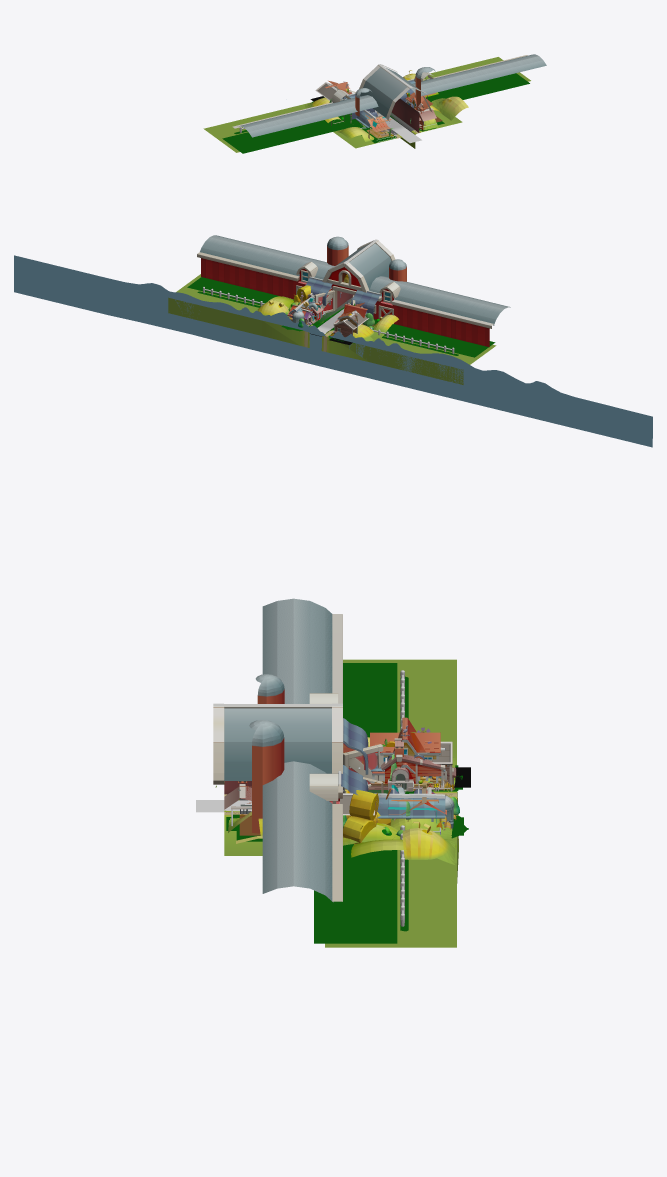
Rendered from Ginger_Enviroments_(un)Flattened.glb.
3 views of the same model, one above another, from view 1: azimuth 30°, elevation 25°; view 2: azimuth 150°, elevation 25°; view 3: azimuth 270°, elevation 25° (orthographic). The views are drawn at different scales.
Visible parts, largest first — view 1: Ginger2_FarmYard_Tunnel_MESH, shadows_4, Ginger2_ParkSet01_30_MESH, Ginger2_CityResidentialSet01_30_MESH, Ginger2_SideArches_Set_30_MESH, Ginger2_CityShopSet01_30_MESH, road; view 2: background, Ginger2_FarmYard_Tunnel_MESH, shadows_4, Ginger2_SideArches_Set_10_MESH, Ginger2_SideArches_Set_30_MESH, Ginger2_ParkSet01_10_MESH, Ginger2_CityShopSet01_10_MESH, Ginger2_ParkSet01_30_MESH, Ginger2_CityResidentialSet01_30_MESH, Ginger2_CityResidentialSet01_10_MESH; view 3: Ginger2_FarmYard_Tunnel_MESH, shadows_4, Ginger2_CityResidentialSet01_30_MESH, Ginger2_CityShopSet01_30_MESH, Ginger2_ParkSet01_10_MESH, Ginger2_SideArches_Set_30_MESH, Ginger2_ParkSet01_30_MESH, Ginger2_SideArches_Set_10_MESH, Ginger2_CityShopSet01_10_MESH.
Part boxes in pixels (x1,y1,x2,y2): Ginger2_FarmYard_Tunnel_MESH: (203,54,546,152); shadows_4: (222,73,529,153); Ginger2_ParkSet01_30_MESH: (325,80,468,141); Ginger2_CityResidentialSet01_30_MESH: (325,80,461,148); Ginger2_SideArches_Set_30_MESH: (333,79,462,147); Ginger2_CityShopSet01_30_MESH: (344,83,436,135); road: (375,110,414,137); background: (14,255,652,447); Ginger2_FarmYard_Tunnel_MESH: (168,235,510,384); shadows_4: (187,277,495,357); Ginger2_SideArches_Set_10_MESH: (262,302,376,361); Ginger2_SideArches_Set_30_MESH: (304,276,394,347); Ginger2_ParkSet01_10_MESH: (257,300,374,349); Ginger2_CityShopSet01_10_MESH: (292,302,368,337); Ginger2_ParkSet01_30_MESH: (268,289,398,338); Ginger2_CityResidentialSet01_30_MESH: (293,298,383,353); Ginger2_CityResidentialSet01_10_MESH: (288,308,384,351); Ginger2_FarmYard_Tunnel_MESH: (213,598,456,947); shadows_4: (240,663,414,943); Ginger2_CityResidentialSet01_30_MESH: (224,717,456,855); Ginger2_CityShopSet01_30_MESH: (215,738,456,828); Ginger2_ParkSet01_10_MESH: (390,727,456,864); Ginger2_SideArches_Set_30_MESH: (224,718,456,855); Ginger2_ParkSet01_30_MESH: (224,737,459,863); Ginger2_SideArches_Set_10_MESH: (392,747,458,883); Ginger2_CityShopSet01_10_MESH: (382,739,454,824).
Size of the model in its own units: 190 by 24.38 by 35.42.
